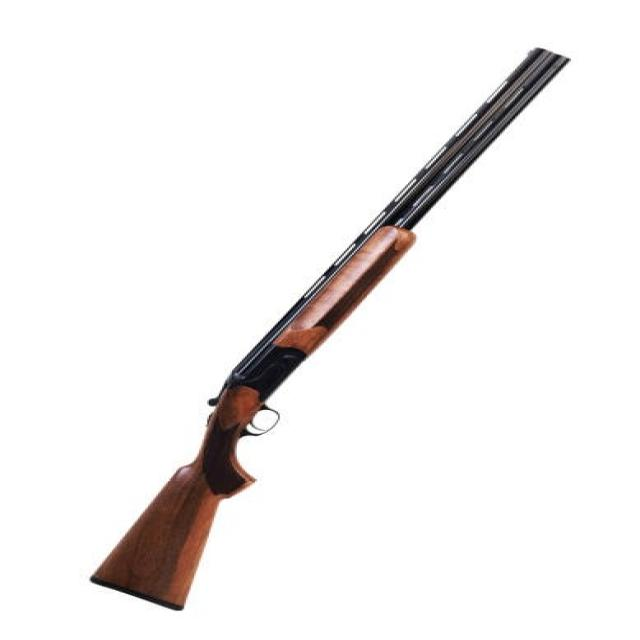rifle: (72, 47, 570, 628)
